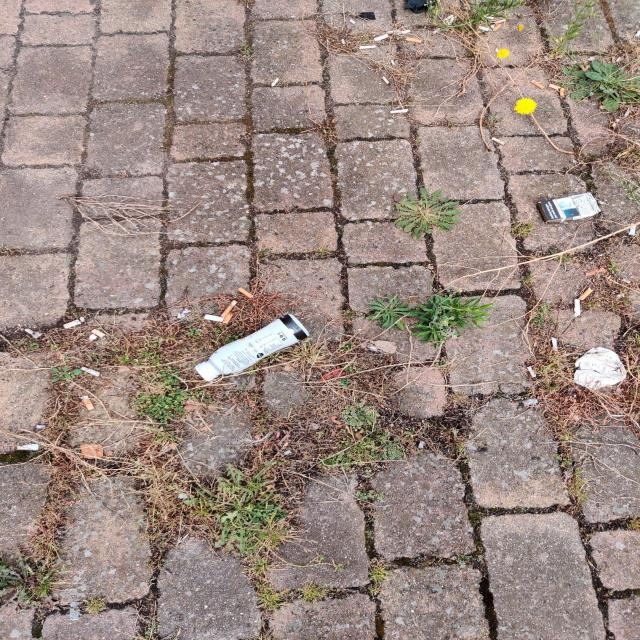litter: (192, 312, 311, 383), (570, 346, 627, 392), (534, 190, 605, 226), (358, 24, 427, 53), (570, 284, 595, 319), (529, 78, 567, 98), (220, 299, 239, 319), (78, 394, 97, 412), (81, 365, 103, 378), (238, 287, 255, 302), (547, 337, 561, 354), (378, 75, 395, 88), (490, 135, 508, 146), (524, 367, 538, 379), (388, 109, 410, 116), (267, 77, 281, 88), (488, 18, 508, 25), (492, 22, 503, 33)
